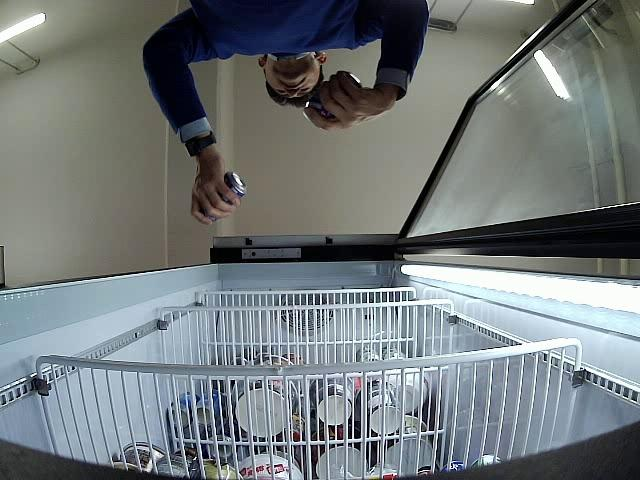00_hand: (303, 70, 394, 132), (191, 149, 241, 226)
14_welchsGrape: (304, 71, 362, 121), (199, 171, 246, 222)
